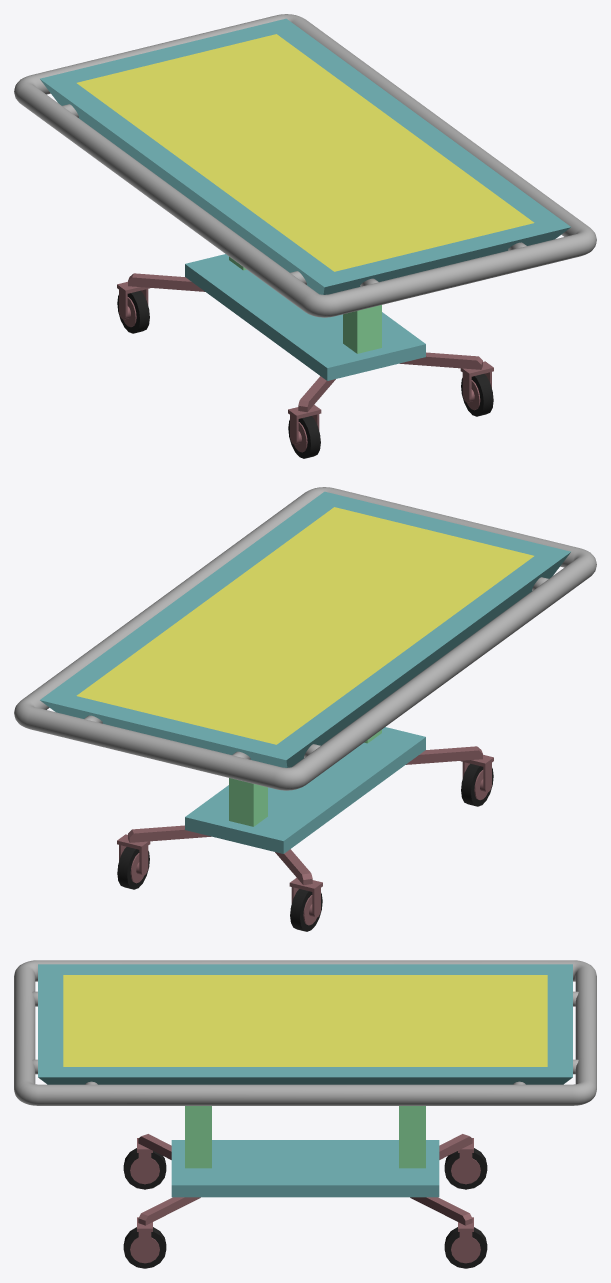
The model's file is OperatingTable.fbx.
The picture shows the model from 3 angles, top to bottom: view 1: azimuth 30°, elevation 25°; view 2: azimuth 150°, elevation 25°; view 3: azimuth 270°, elevation 25°; orthographic projection. The views are drawn at different scales.
Parts seen in each view (by area): view 1: Slab, Handle, BaseSlab, Supports, Wheel.001, Wheel.000, Wheel.002, WheelConnector.002, WheelConnector.000, WheelConnector.001; view 2: Slab, Handle, BaseSlab, Supports, Wheel.002, Wheel.003, Wheel.001, WheelConnector.001, WheelConnector.003, WheelConnector.002; view 3: Slab, Handle, BaseSlab, Supports, Wheel.000, Wheel.003, Wheel.001, Wheel.002, WheelConnector.000, WheelConnector.003, WheelConnector.001, WheelConnector.002.
Part boxes in pixels (x1,y1,x2,y2): Slab: (40,18,570,294); Handle: (14,14,596,317); BaseSlab: (185,254,425,380); Supports: (229,256,381,353); Wheel.001: (288,404,321,458); Wheel.000: (460,361,493,416); Wheel.002: (117,281,149,333); WheelConnector.002: (128,273,204,291); WheelConnector.000: (399,352,482,369); WheelConnector.001: (298,376,335,412); Slab: (40,491,570,767); Handle: (14,487,596,790); BaseSlab: (185,727,425,853); Supports: (229,729,381,826); Wheel.002: (289,877,322,931); Wheel.003: (117,834,150,889); Wheel.001: (461,754,493,806); WheelConnector.001: (406,746,482,764); WheelConnector.003: (128,825,211,842); WheelConnector.002: (275,849,312,885); Slab: (38,964,572,1084); Handle: (14,960,596,1105); BaseSlab: (171,1140,439,1197); Supports: (185,1106,425,1168); Wheel.000: (123,1217,166,1268); Wheel.003: (444,1217,487,1268); Wheel.001: (123,1138,166,1189); Wheel.002: (444,1138,487,1189); WheelConnector.000: (138,1197,200,1225); WheelConnector.003: (410,1197,472,1225); WheelConnector.001: (138,1134,171,1159); WheelConnector.002: (439,1134,472,1159).
Size of the model in its own units: 118 by 85 by 218.
